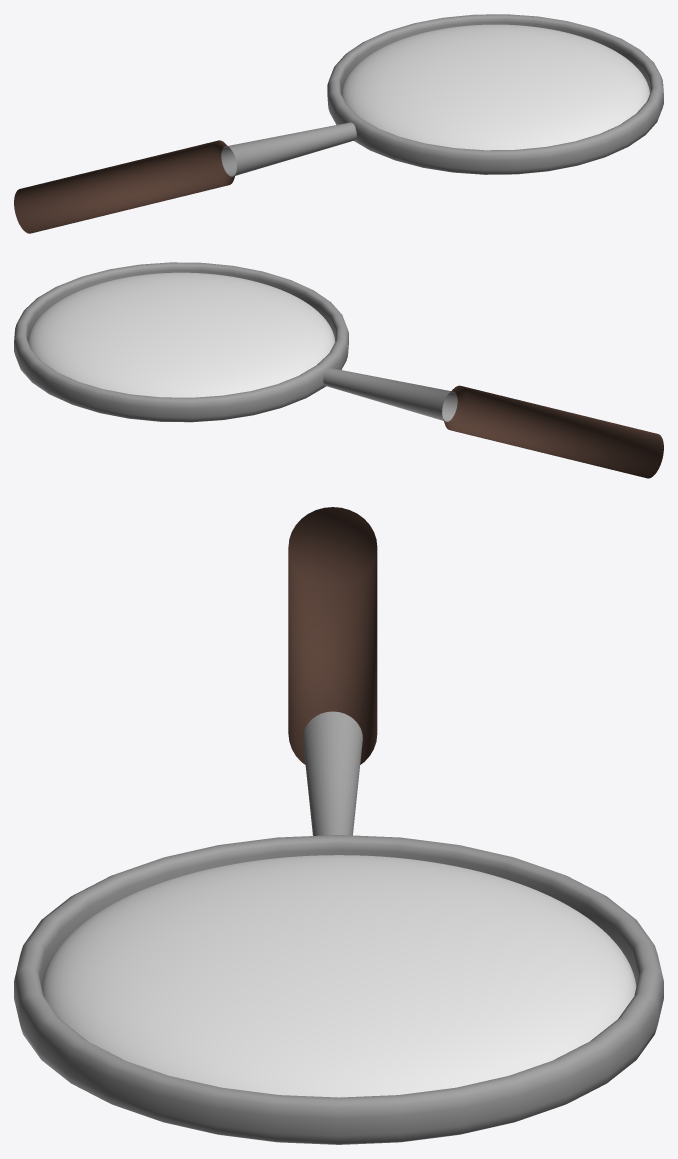
The model's file is magnifying_glass.glb.
3 views of the same model, one above another, from view 1: azimuth 30°, elevation 25°; view 2: azimuth 150°, elevation 25°; view 3: azimuth 270°, elevation 25° (orthographic). The views are drawn at different scales.
Visible parts, largest first — view 1: Magnifying glass; view 2: Magnifying glass; view 3: Magnifying glass.
Boxes of the visible parts, bbox=[...] form: Magnifying glass: bbox=[14, 14, 663, 233]; Magnifying glass: bbox=[14, 262, 663, 478]; Magnifying glass: bbox=[14, 507, 663, 1144].
Size of the model in its own units: 5.48 by 0.54 by 2.59.
3 materials, 2 textured.
